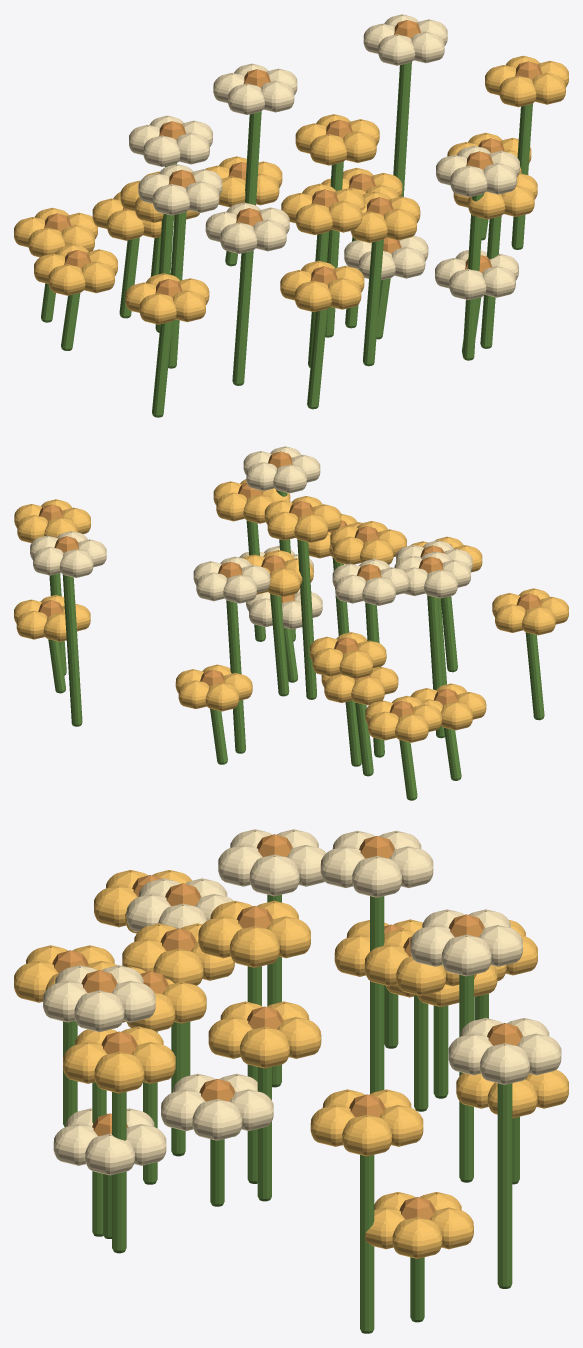
The model's file is ashwick-wildflowers.meshopt.glb.
The picture shows the model from 3 angles, top to bottom: view 1: azimuth 30°, elevation 25°; view 2: azimuth 150°, elevation 25°; view 3: azimuth 270°, elevation 25°; orthographic projection. The views are drawn at different scales.
Parts seen in each view (by area): view 1: Petals.003, Petals.002, Stem.001, Pollen.001; view 2: Petals.003, Stem.001, Petals.002, Pollen.001; view 3: Petals.003, Petals.002, Stem.001, Pollen.001.
Part boxes in pixels (box(x1,y1,x2,y2)): Petals.003: box(14, 55, 568, 324); Petals.002: box(129, 14, 519, 300); Stem.001: box(41, 62, 532, 417); Pollen.001: box(44, 20, 542, 297); Petals.003: box(14, 479, 568, 742); Stem.001: box(48, 490, 544, 800); Petals.002: box(30, 446, 472, 629); Pollen.001: box(38, 451, 541, 717); Petals.003: box(14, 870, 568, 1258); Petals.002: box(43, 829, 561, 1175); Stem.001: box(63, 894, 519, 1333); Pollen.001: box(52, 834, 522, 1219).
Bounding box in the file's own units: 1.37 × 0.5414 × 0.9591.
